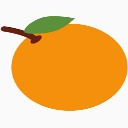orange: (7, 15, 128, 113)
